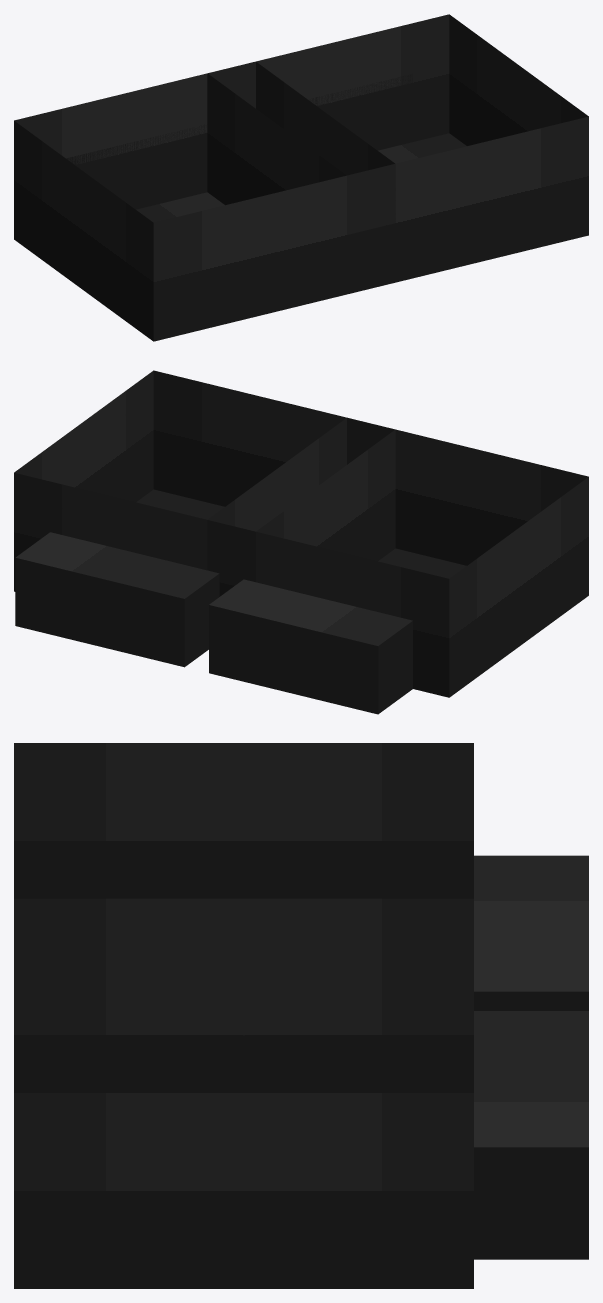
File: archevoker_boots.glb
The picture shows the model from 3 angles, top to bottom: view 1: azimuth 30°, elevation 25°; view 2: azimuth 150°, elevation 25°; view 3: azimuth 270°, elevation 25°; orthographic projection. The views are drawn at different scales.
Bounding box in the file's own units: 0.5625 × 0.1469 × 0.3906.
1 material, 1 textured.
